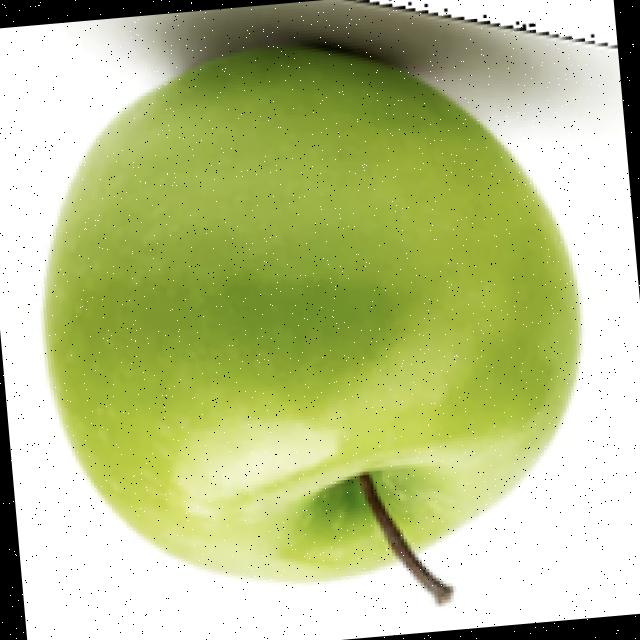apple: (36, 0, 611, 609)
